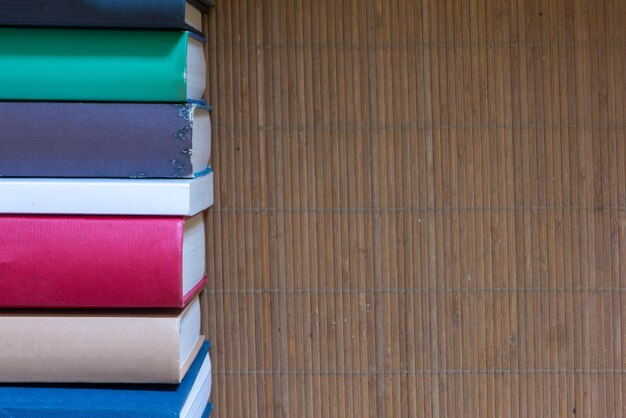not a gesture sign: (205, 0, 625, 417)
